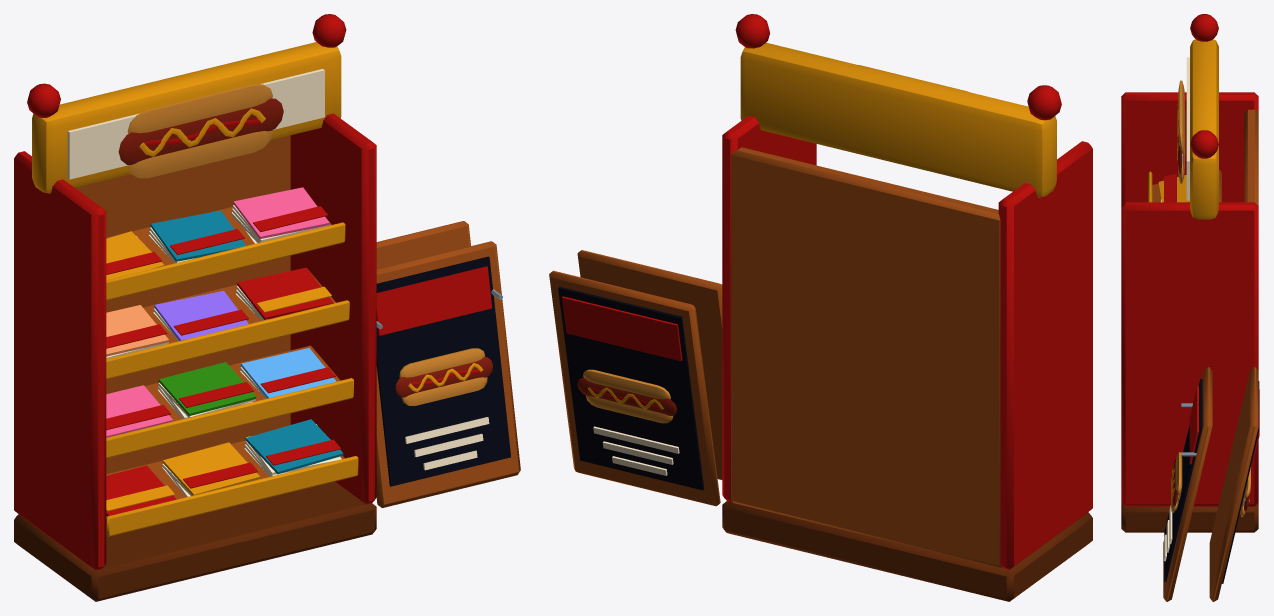
File: FlyerStand.fbx
3 views of the same model, side by side, from view 1: azimuth 30°, elevation 25°; view 2: azimuth 150°, elevation 25°; view 3: azimuth 270°, elevation 25° (orthographic). The views are drawn at different scales.
Parts seen in each view (by area): view 1: FlyerStand; view 2: FlyerStand; view 3: FlyerStand.
Boxes of the visible parts, bbox=[...] form: FlyerStand: bbox=[14, 14, 520, 601]; FlyerStand: bbox=[549, 14, 1092, 601]; FlyerStand: bbox=[1121, 14, 1259, 601].
Size of the model in its own units: 6.24 by 6.15 by 1.91.
